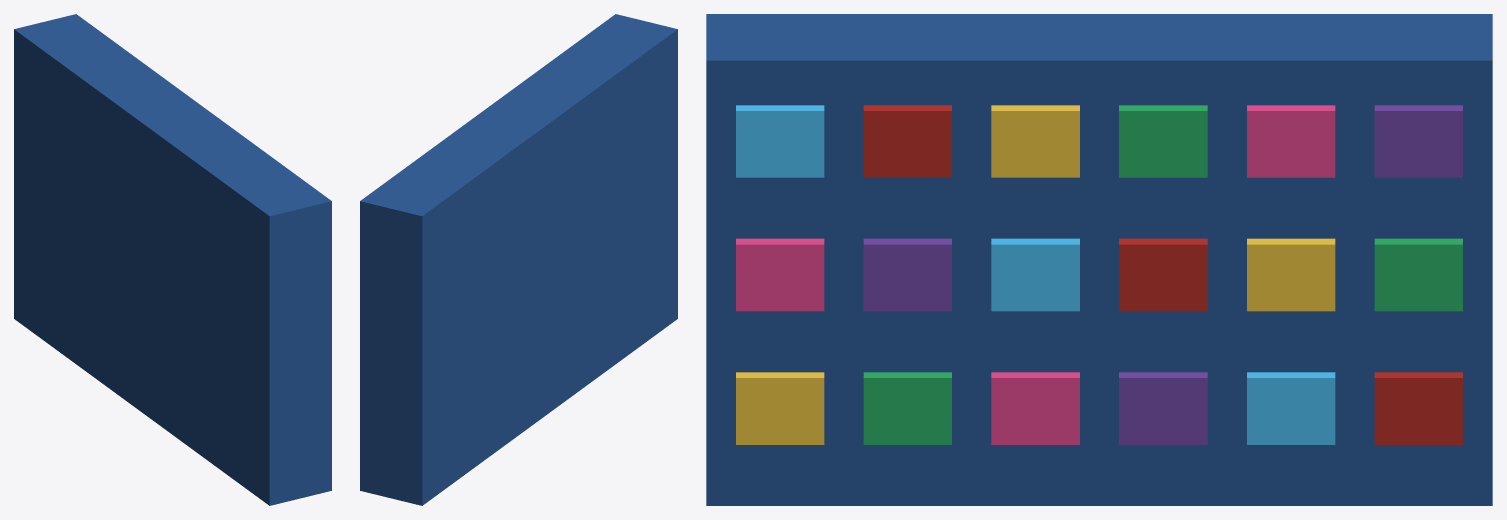
Rendered from toy_shelf_2.glb.
3 views of the same model, side by side, from view 1: azimuth 30°, elevation 25°; view 2: azimuth 150°, elevation 25°; view 3: azimuth 270°, elevation 25° (orthographic). The views are drawn at different scales.
Parts seen in each view (by area): view 1: Box1; view 2: Box1; view 3: Box1, Box10, Box11, Box8, Box9, Box12, Box13, Box2, Box3, Box4, Box5, Box6 (+7 smaller).
Boxes of the visible parts, box(x1,y1,x2,y2) form: Box1: box(14, 14, 331, 505); Box1: box(360, 14, 677, 505); Box1: box(706, 14, 1492, 505); Box10: box(991, 238, 1079, 311); Box11: box(1119, 238, 1207, 311); Box8: box(736, 238, 824, 311); Box9: box(863, 238, 951, 311); Box12: box(1247, 238, 1335, 311); Box13: box(1374, 238, 1462, 311); Box2: box(736, 372, 824, 444); Box3: box(863, 372, 951, 444); Box4: box(991, 372, 1079, 444); Box5: box(1119, 372, 1207, 444); Box6: box(1247, 372, 1335, 444).
Bounding box in the file's own units: 0.505 × 2 × 3.2.
